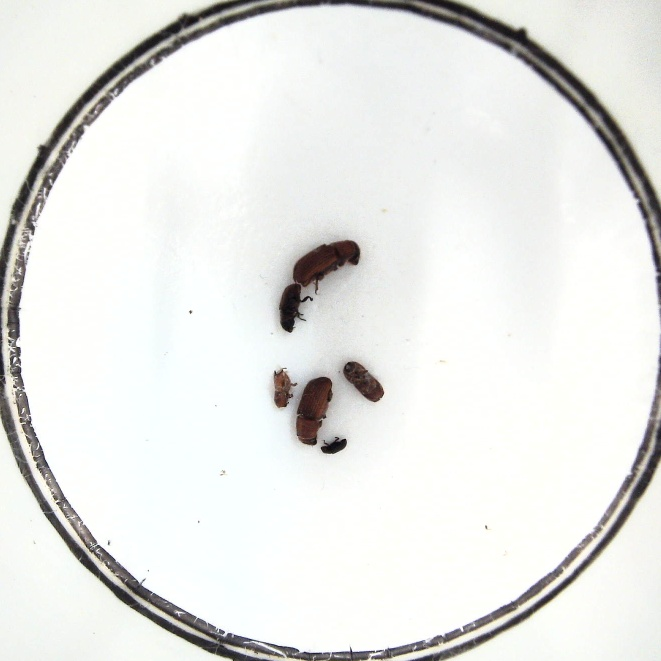acuminatus: (273, 367, 296, 409)
armandi: (278, 283, 313, 332)
coleoptera: (319, 436, 346, 455)
leconte: (292, 239, 361, 285), (294, 375, 332, 446)
linnaeus: (343, 360, 387, 404)
